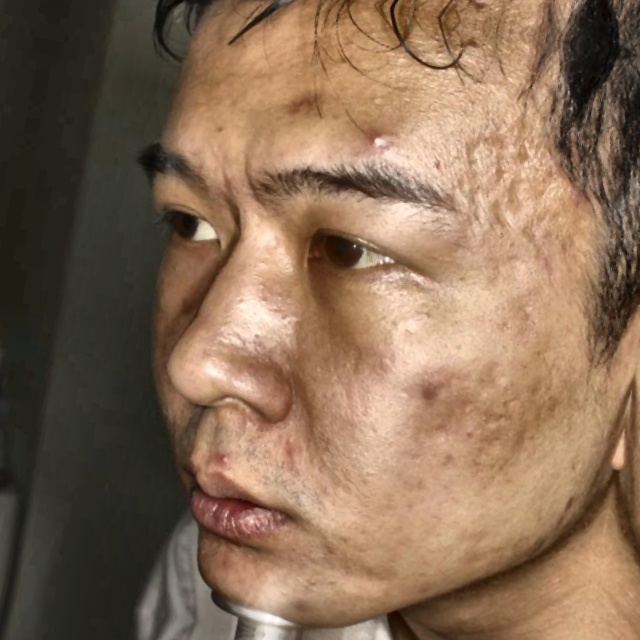comedone: (355, 124, 409, 160), (209, 444, 234, 478)
